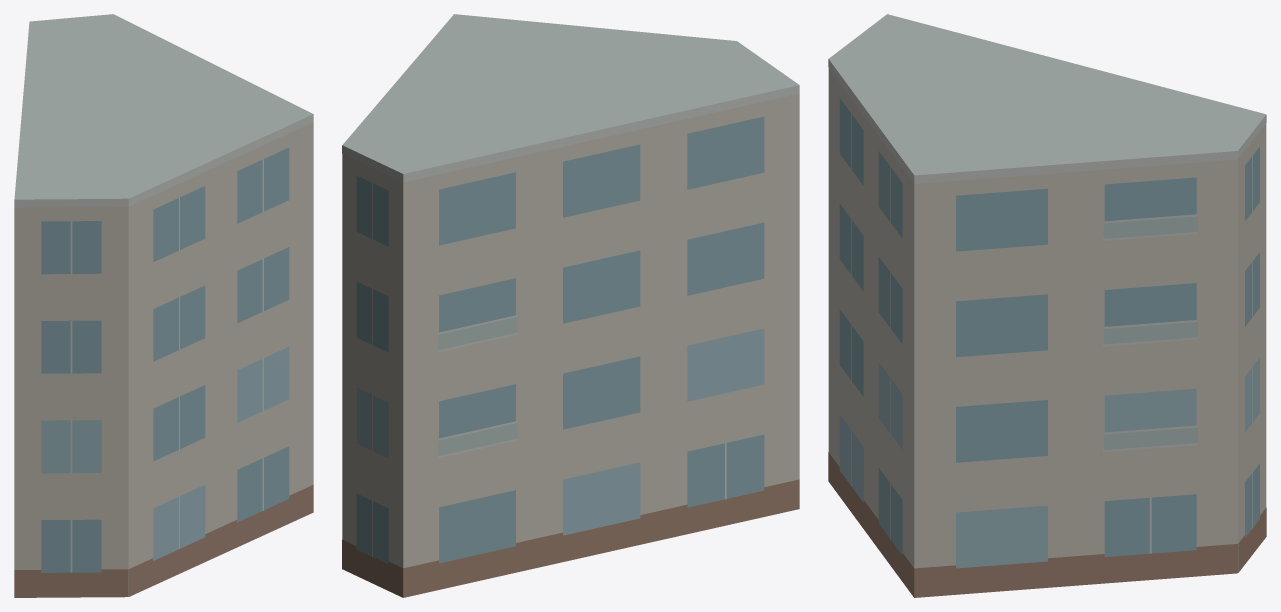
The model's file is survey-upis-32642692.glb.
3 renders of one model, left to right at view 1: azimuth 30°, elevation 25°; view 2: azimuth 150°, elevation 25°; view 3: azimuth 270°, elevation 25°, orthographic. The views are drawn at different scales.
Parts seen in each view (by area): view 1: survey-upis-32642692.tmp; view 2: survey-upis-32642692.tmp; view 3: survey-upis-32642692.tmp.
Boxes of the visible parts, x1,y1,x2,y2 form: survey-upis-32642692.tmp: (14, 14, 313, 597); survey-upis-32642692.tmp: (342, 14, 799, 597); survey-upis-32642692.tmp: (828, 14, 1266, 597).
Bounding box in the file's own units: 10.01 × 12.2 × 11.47.
